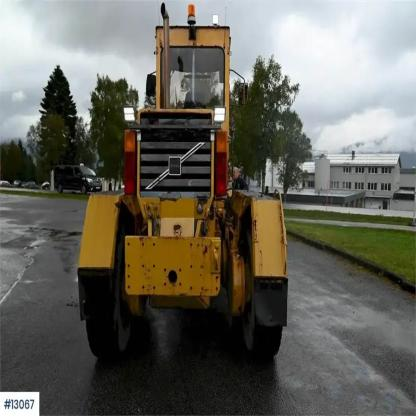bull_dozer/loader/grader: (75, 7, 305, 374)
